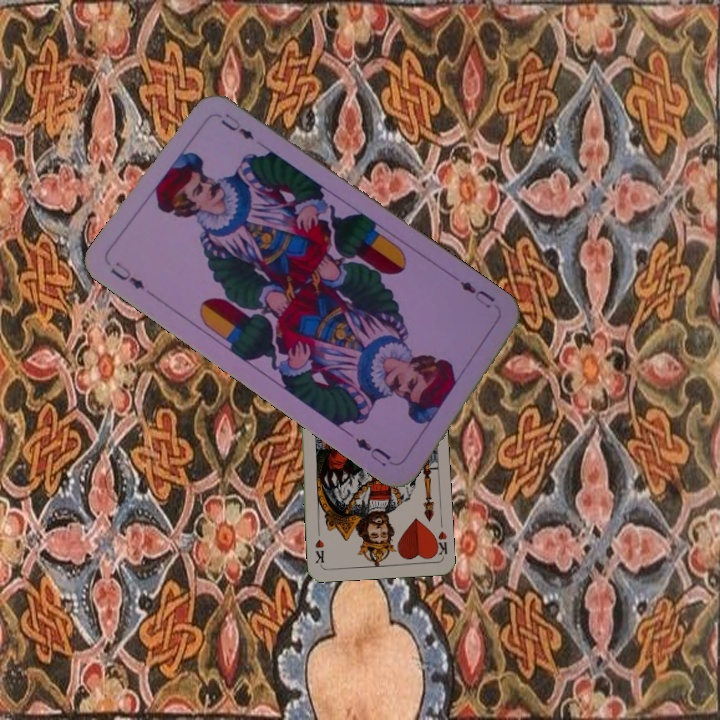EU: (106, 257, 147, 292), (456, 277, 497, 311)
HK: (429, 527, 450, 559)
